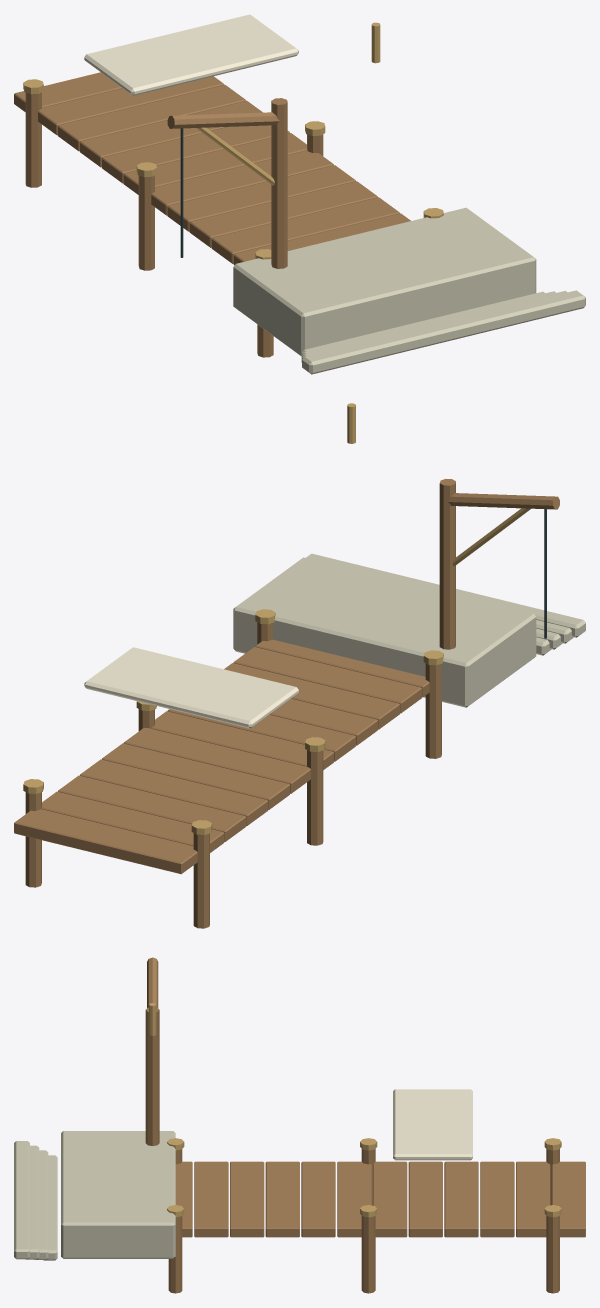
The model's file is level_27.glb.
3 renders of one model, top to bottom at view 1: azimuth 30°, elevation 25°; view 2: azimuth 150°, elevation 25°; view 3: azimuth 270°, elevation 25°, orthographic. The views are drawn at different scales.
Visible parts, largest first — view 1: dock — level 27; view 2: dock — level 27; view 3: dock — level 27.
Part boxes in pixels (<box>): dock — level 27: <box>14,14,585,374</box>; dock — level 27: <box>14,403,585,928</box>; dock — level 27: <box>14,957,585,1293</box>.
Bounding box in the file's own units: 5.45 × 4.96 × 9.98.
